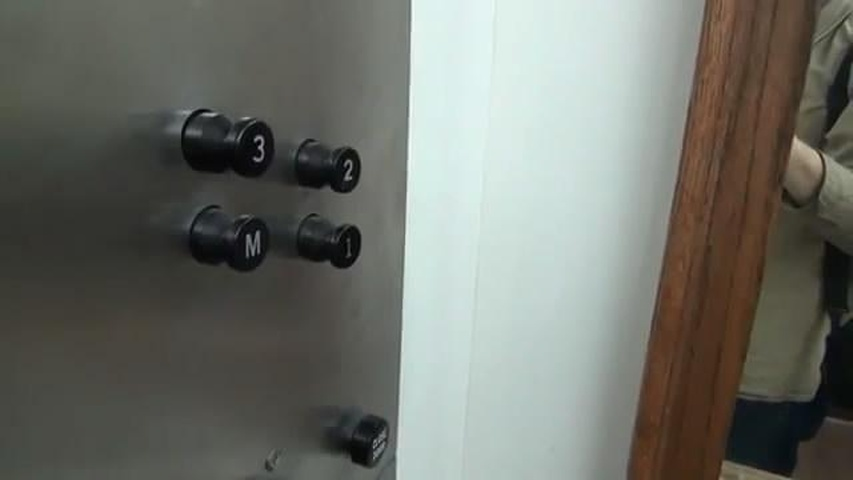1: (296, 212, 363, 269)
2: (294, 138, 361, 203)
3: (180, 104, 274, 180)
M: (189, 205, 269, 273)
text_blur: (340, 411, 390, 468)
